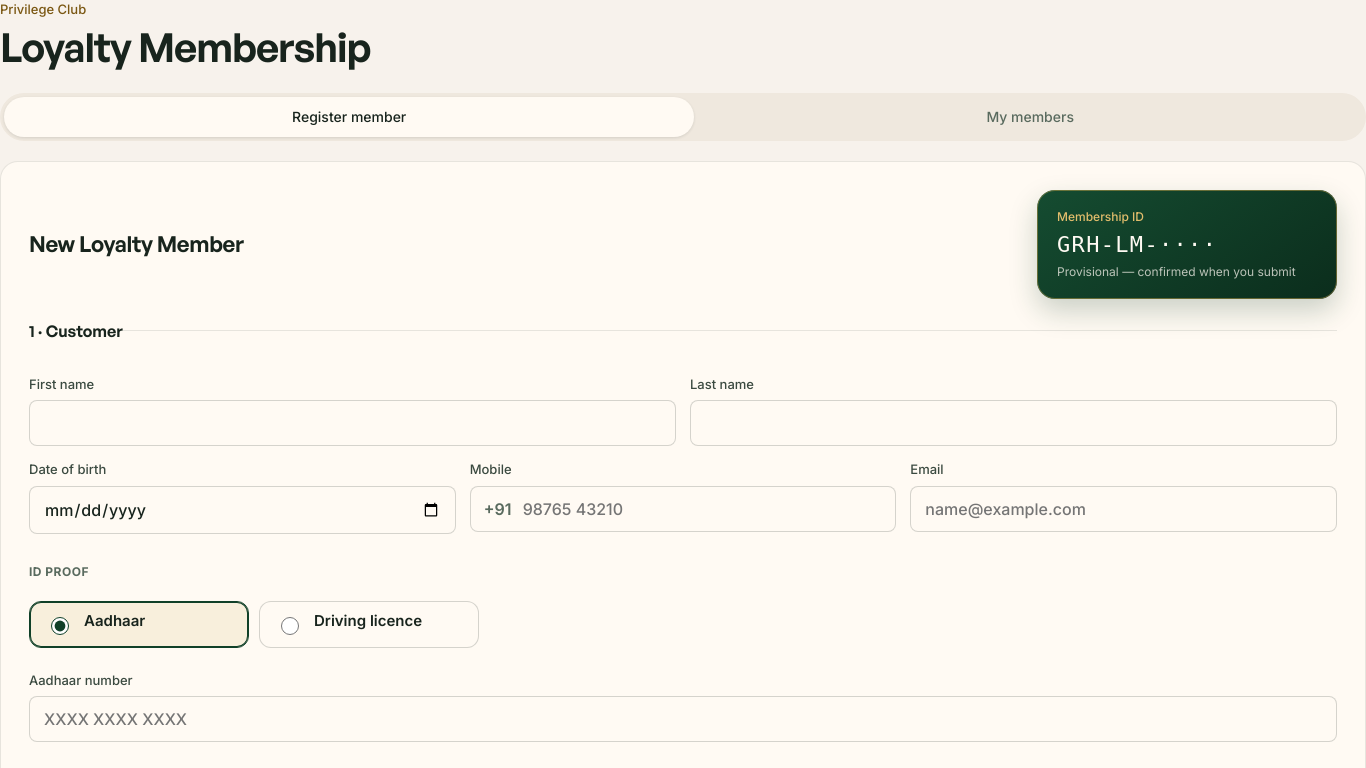
Test: Memberships — Sales Executive › lists my members
Click the tab "My members".
click(1030, 117)  # box [698,97,1362,137]
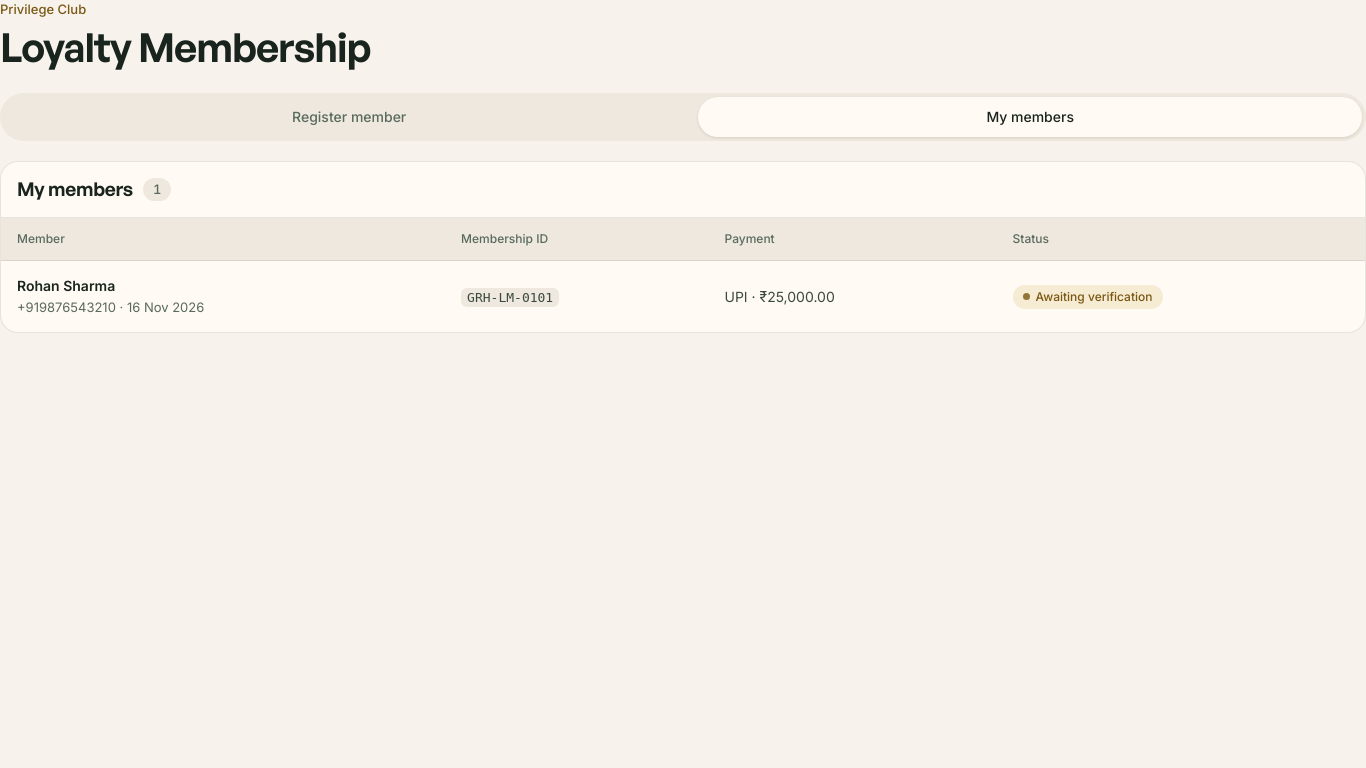
Expected: the text "Rohan Sharma" is shown, [17,277,115,294]
Expected: the text "Awaiting verification" is shown, [1036,288,1152,306]
